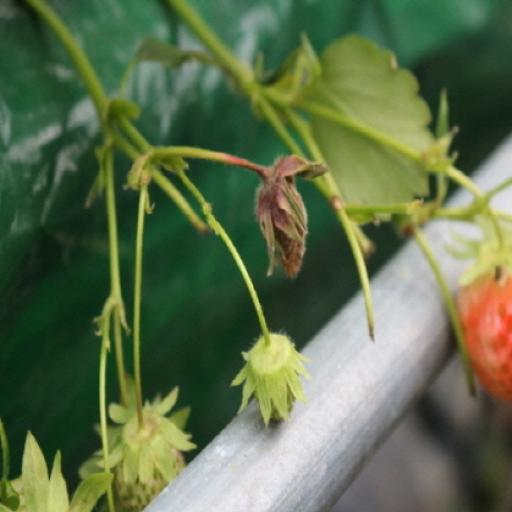Gray Mold: (237, 153, 330, 280)
